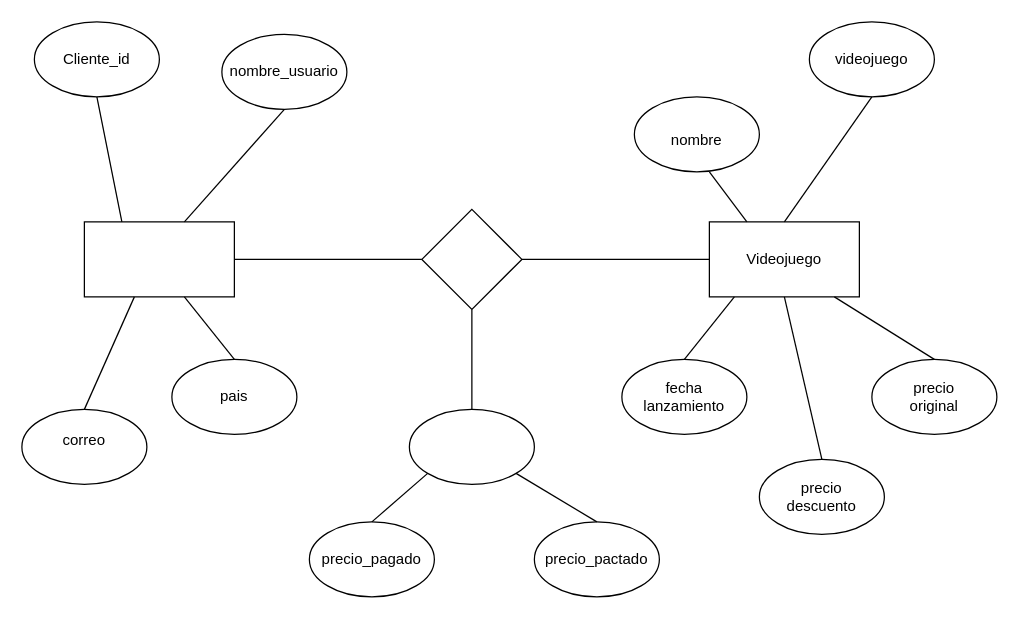
This 1019x619 diagram has some shape labels left out. Each missing label, with the centre of its shape:
"Cliente" belongs at (x=158, y=259).
"Compra" belongs at (x=471, y=258).
"fecha_compra" belongs at (x=471, y=446).
